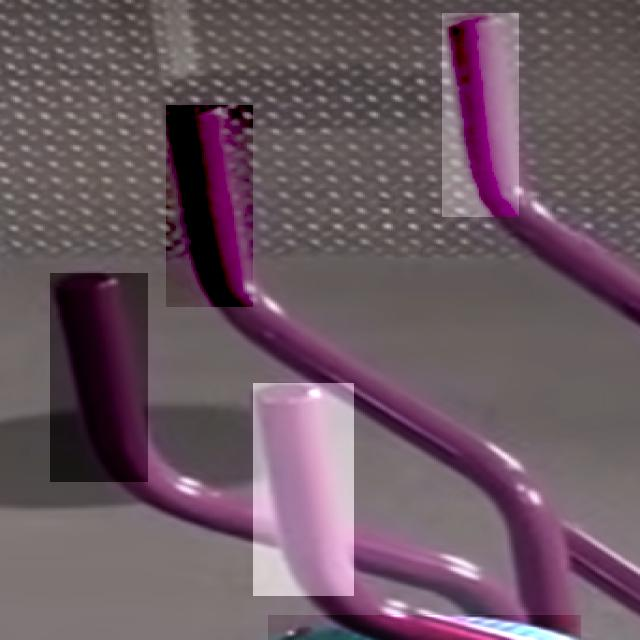Algae: (268, 615, 581, 640)
Reef: (253, 383, 354, 596), (50, 273, 148, 482), (166, 105, 253, 307), (442, 13, 519, 217)
